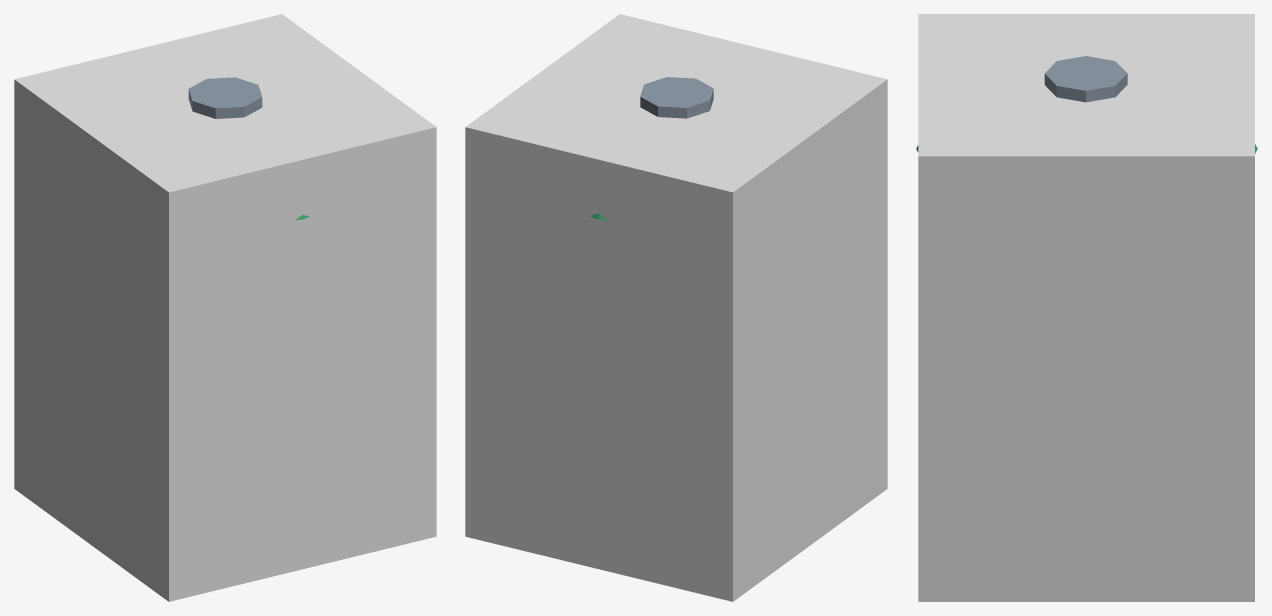
Rendered from prop_bin_a.glb.
The picture shows the model from 3 angles, left to right: view 1: azimuth 30°, elevation 25°; view 2: azimuth 150°, elevation 25°; view 3: azimuth 270°, elevation 25°; orthographic projection. The views are drawn at different scales.
Parts seen in each view (by area): view 1: COL_prop_bin_a_1, prop_bin_a; view 2: COL_prop_bin_a_1, prop_bin_a; view 3: COL_prop_bin_a_1, prop_bin_a.
Boxes of the visible parts, <box> form: COL_prop_bin_a_1: <box>14,14,436,601</box>; prop_bin_a: <box>188,77,309,220</box>; COL_prop_bin_a_1: <box>465,14,887,601</box>; prop_bin_a: <box>590,77,713,220</box>; COL_prop_bin_a_1: <box>918,14,1254,601</box>; prop_bin_a: <box>916,56,1257,153</box>.
Bounding box in the file's own units: 0.65 × 0.9746 × 0.66.
